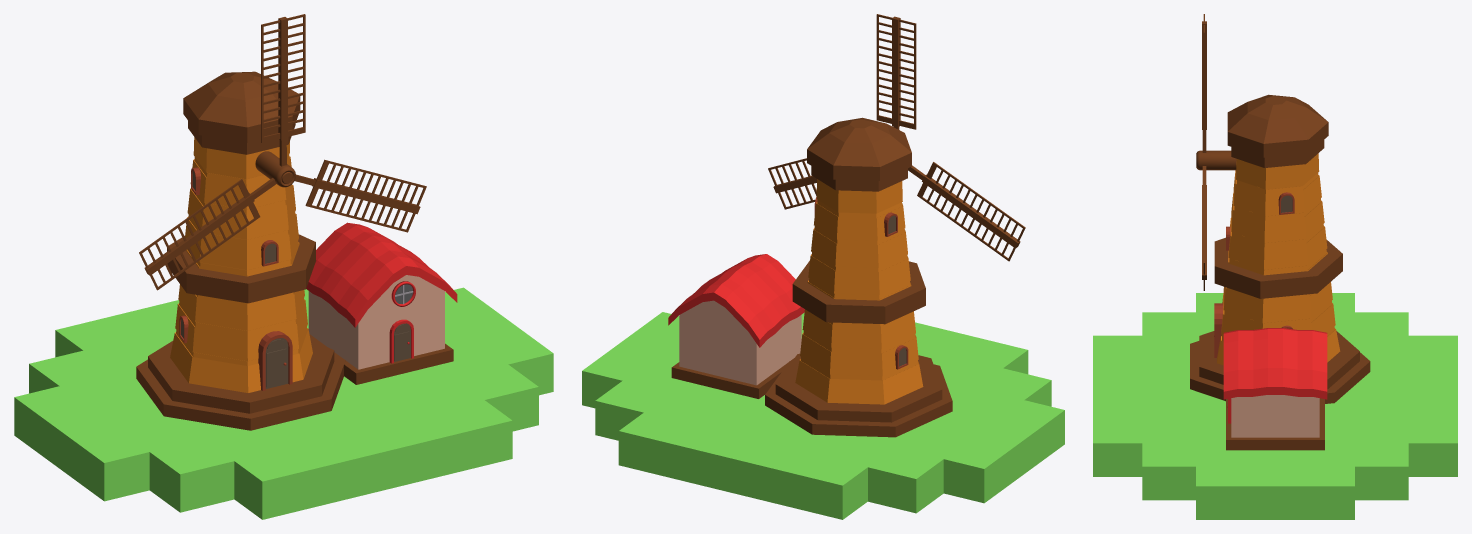
File: degirmen.fbx
3 views of the same model, side by side, from view 1: azimuth 30°, elevation 25°; view 2: azimuth 150°, elevation 25°; view 3: azimuth 270°, elevation 25° (orthographic). The views are drawn at different scales.
Parts seen in each view (by area): view 1: zemin, degirmen, ev, pervane; view 2: zemin, degirmen, ev, pervane; view 3: zemin, degirmen, ev, pervane.
Part boxes in pixels (box(x1,y1,x2,y2)): zemin: box(14, 287, 553, 519); degirmen: box(136, 71, 345, 430); ev: box(306, 222, 457, 384); pervane: box(139, 14, 426, 290); zemin: box(582, 312, 1064, 519); degirmen: box(765, 117, 952, 437); ev: box(668, 254, 804, 398); pervane: box(768, 14, 1025, 261); zemin: box(1093, 293, 1457, 519); degirmen: box(1190, 94, 1370, 403); ev: box(1223, 328, 1327, 450); pervane: box(1202, 14, 1206, 290).
Bounding box in the file's own units: 215 × 199 × 172.
